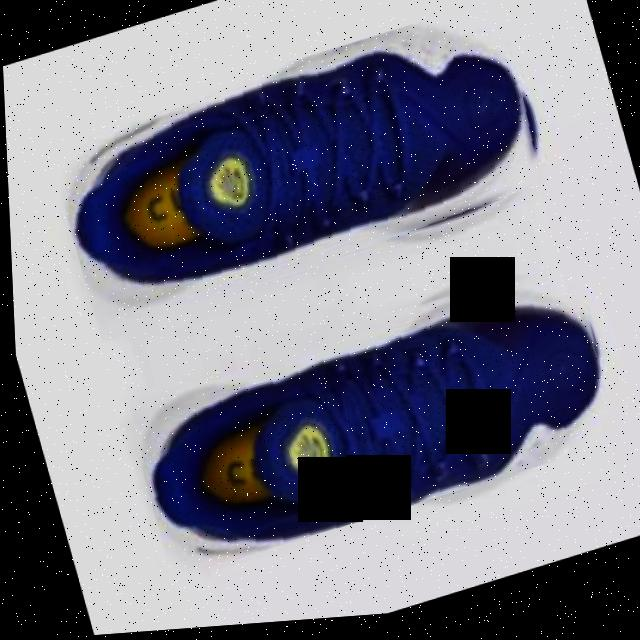shoe: (40, 0, 563, 348), (111, 252, 623, 583)
